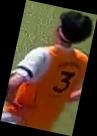yellow: (1, 0, 97, 136)
